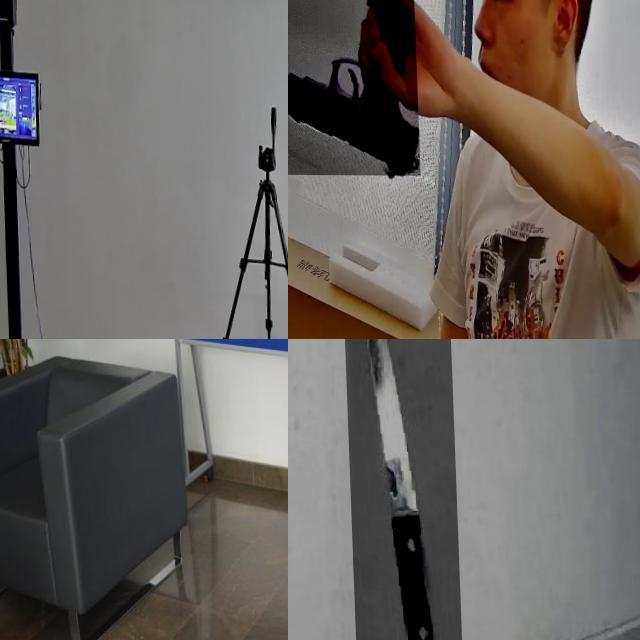-: (341, 339, 461, 640)
gun-knife-thesis - v11 Yolov5 augmented: (288, 0, 417, 175)
